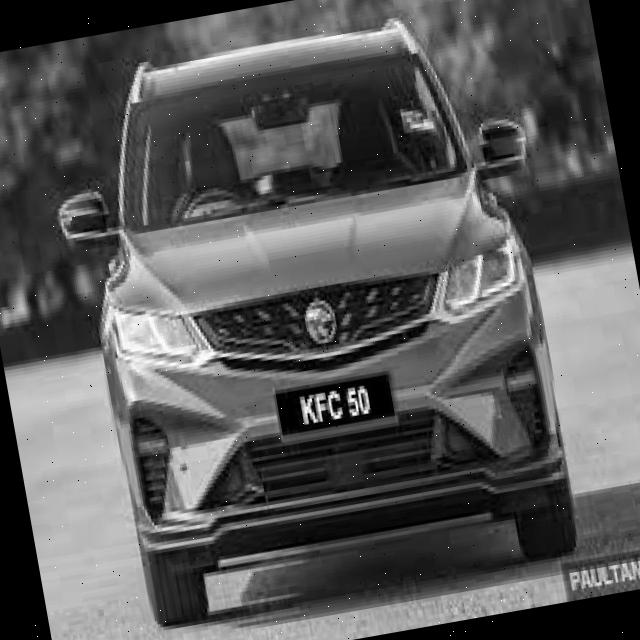License_Plate: (266, 360, 406, 447)
car: (31, 1, 640, 640)
